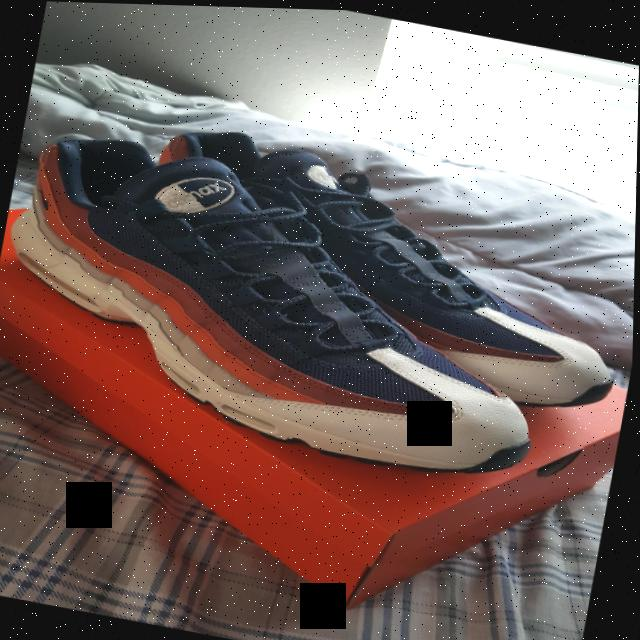shoes: (0, 114, 513, 551), (257, 64, 639, 448)
